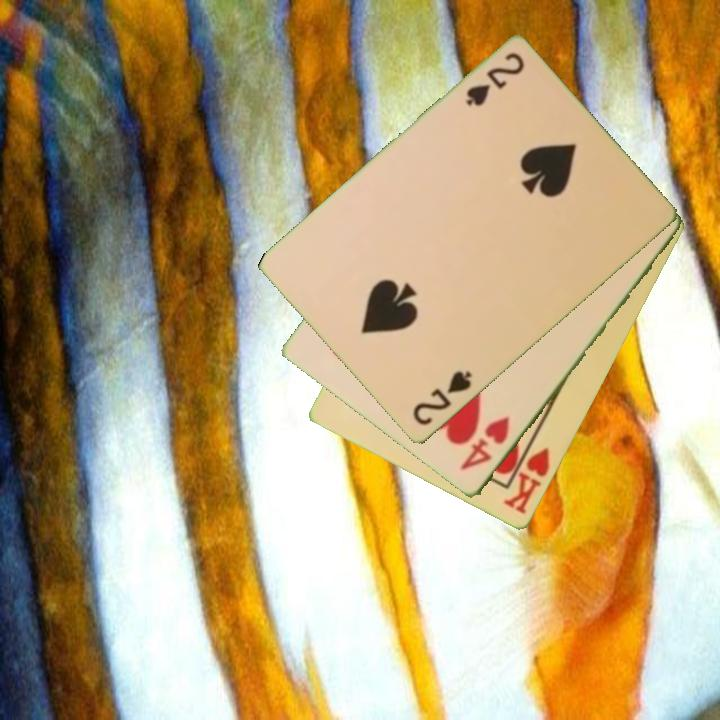2s: (409, 367, 475, 429), (462, 49, 527, 110)
4h: (456, 413, 513, 475)
Kh: (500, 434, 553, 518)
